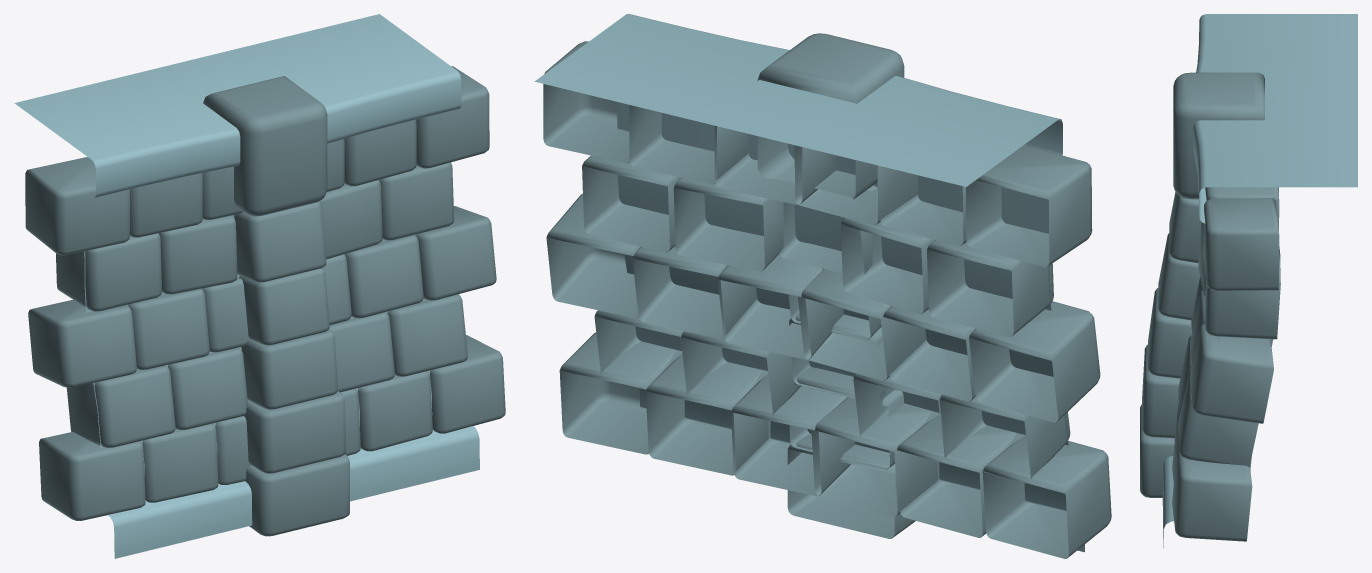
File: 3_Wall.glb
3 renders of one model, left to right at view 1: azimuth 30°, elevation 25°; view 2: azimuth 150°, elevation 25°; view 3: azimuth 270°, elevation 25°, orthographic. The views are drawn at different scales.
Visible parts, largest first — view 1: 3_Wall; view 2: 3_Wall; view 3: 3_Wall.
Boxes of the visible parts, x1,y1,x2,y2 form: 3_Wall: (14, 14, 505, 558); 3_Wall: (535, 14, 1111, 558); 3_Wall: (1140, 14, 1357, 548).
Size of the model in its own units: 4.74 by 4.19 by 2.12.
